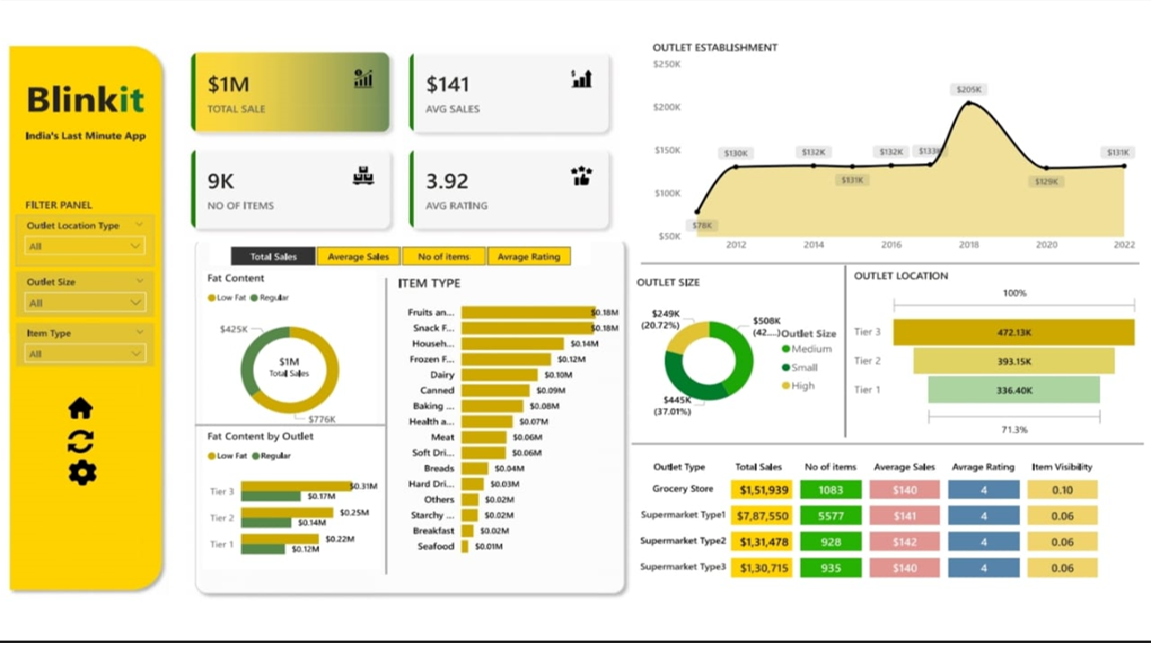

This screenshot's page, from the dashboard's own definition file:
{"tool":"powerbi","page":{"name":"Page 1","canvas":[1400,800],"ordinal":0},"visuals":[{"type":"shape","box":[0,25.5,203.8,769.4],"z":0},{"type":"textbox","box":[22.8,67,159.5,76.4],"z":1000},{"type":"textbox","box":[22.8,143.4,163.5,41.6],"z":2000},{"type":"donutChart","title":"OUTLET SIZE","fields":{"Y":["BlinkIT Grocery Data.Total Sales"],"Category":["BlinkIT Grocery Data.Outlet Size"]},"box":[772.1,349.9,274.8,219.8],"z":3000},{"type":"shape","box":[227.9,289.5,544.2,510.7],"z":4000},{"type":"donutChart","title":"Fat Content","fields":{"Y":["BlinkIT Grocery Data.Total Sales"],"Category":["BlinkIT Grocery Data.Item Fat Content"]},"box":[246.1,345.2,213.1,229.6],"z":5000},{"type":"slicer","fields":{"Values":["Metrics.Metrics"]},"box":[254.7,304.3,466.5,32.2],"z":6000},{"type":"cardVisual","fields":{"Data":["BlinkIT Grocery Data.Total Sales"]},"box":[282.2,427.7,139.6,97.6],"z":7000},{"type":"clusteredBarChart","title":"Fat Content by Outlet","fields":{"Y":["BlinkIT Grocery Data.Total Sales"],"Category":["BlinkIT Grocery Data.Outlet Location Type"],"Series":["BlinkIT Grocery Data.Item Fat Content"]},"box":[246.1,564.3,219.1,193.6],"z":8000},{"type":"shape","box":[237.1,529.8,232.6,57],"z":9000},{"type":"shape","box":[332.4,353.9,276.1,410.2],"z":10000},{"type":"barChart","title":"ITEM TYPE","fields":{"Y":["BlinkIT Grocery Data.Total Sales"],"Category":["BlinkIT Grocery Data.Item Type"]},"box":[479.9,349.9,281.5,398.1],"z":11000},{"type":"lineChart","title":"OUTLET ESTABLISHMENT","fields":{"Category":["BlinkIT Grocery Data.Outlet Establishment Year"],"Y":["BlinkIT Grocery Data.Total Sales"]},"box":[793.2,25.7,601.4,300],"z":12000},{"type":"shape","box":[784.2,317.7,609.9,32.2],"z":13000},{"type":"shape","box":[896.8,337.1,274.2,237.1],"z":14000},{"type":"funnel","title":"OUTLET LOCATION","fields":{"Y":["Sum(BlinkIT Grocery Data.Sales)"],"Category":["BlinkIT Grocery Data.Outlet Location Type"]},"box":[1040.2,341.8,359.3,235.9],"z":15000},{"type":"shape","box":[771.6,567.6,628.4,32.4],"z":16000},{"type":"pivotTable","fields":{"Rows":["BlinkIT Grocery Data.Outlet Type"],"Values":["BlinkIT Grocery Data.Total Sales","BlinkIT Grocery Data.No of items","BlinkIT Grocery Data.Average Sales","BlinkIT Grocery Data.Avrage Rating","Avg(BlinkIT Grocery Data.Item Visibility)"]},"box":[771.6,598.6,628.4,195.9],"z":17000},{"type":"cardVisual","fields":{"Data":["BlinkIT Grocery Data.Total Sales","BlinkIT Grocery Data.Average Sales","BlinkIT Grocery Data.No of items","BlinkIT Grocery Data.Avrage Rating"]},"box":[214.5,25.5,546.9,278.8],"z":18000},{"type":"slicer","fields":{"Values":["BlinkIT Grocery Data.Outlet Location Type"]},"box":[16.1,266.8,170.2,71],"z":19000},{"type":"slicer","fields":{"Values":["BlinkIT Grocery Data.Outlet Size"]},"box":[17.4,345.8,168.9,61.7],"z":20000},{"type":"slicer","fields":{"Values":["BlinkIT Grocery Data.Item Type"]},"box":[17.4,416.9,168.9,59],"z":21000},{"type":"textbox","box":[22.8,238.6,166.2,28.2],"z":22000},{"type":"image","box":[9.4,514.7,172.9,38.9],"z":23000},{"type":"image","box":[68.4,560.3,55,40.2],"z":24000},{"type":"image","box":[69.7,600.5,55,46.9],"z":25000}]}

Visuals, with their boxes in screenshot pixels (x1, y1, x2, y2), scaled from the page's 1400x800 canvas onto the 1152x648 screenshot:
shape: <region>0, 21, 168, 644</region>
textbox: <region>19, 54, 150, 116</region>
textbox: <region>19, 116, 153, 150</region>
"OUTLET SIZE" donutChart: <region>635, 283, 861, 461</region>
shape: <region>188, 234, 635, 647</region>
"Fat Content" donutChart: <region>203, 280, 378, 466</region>
slicer - Metrics.Metrics: <region>210, 246, 593, 273</region>
cardVisual - BlinkIT Grocery Data.Total Sales: <region>232, 346, 347, 425</region>
"Fat Content by Outlet" clusteredBarChart: <region>203, 457, 383, 614</region>
shape: <region>195, 429, 386, 475</region>
shape: <region>274, 287, 501, 619</region>
"ITEM TYPE" barChart: <region>395, 283, 627, 606</region>
"OUTLET ESTABLISHMENT" lineChart: <region>653, 21, 1148, 264</region>
shape: <region>645, 257, 1147, 283</region>
shape: <region>738, 273, 964, 465</region>
"OUTLET LOCATION" funnel: <region>856, 277, 1151, 468</region>
shape: <region>635, 460, 1151, 486</region>
pivotTable - BlinkIT Grocery Data.Outlet Type x BlinkIT Grocery Data.Total Sales: <region>635, 485, 1151, 644</region>
cardVisual - BlinkIT Grocery Data.Total Sales x BlinkIT Grocery Data.Average Sales: <region>177, 21, 627, 246</region>
slicer - BlinkIT Grocery Data.Outlet Location Type: <region>13, 216, 153, 274</region>
slicer - BlinkIT Grocery Data.Outlet Size: <region>14, 280, 153, 330</region>
slicer - BlinkIT Grocery Data.Item Type: <region>14, 338, 153, 385</region>
textbox: <region>19, 193, 156, 216</region>
image: <region>8, 417, 150, 448</region>
image: <region>56, 454, 102, 486</region>
image: <region>57, 486, 103, 524</region>
